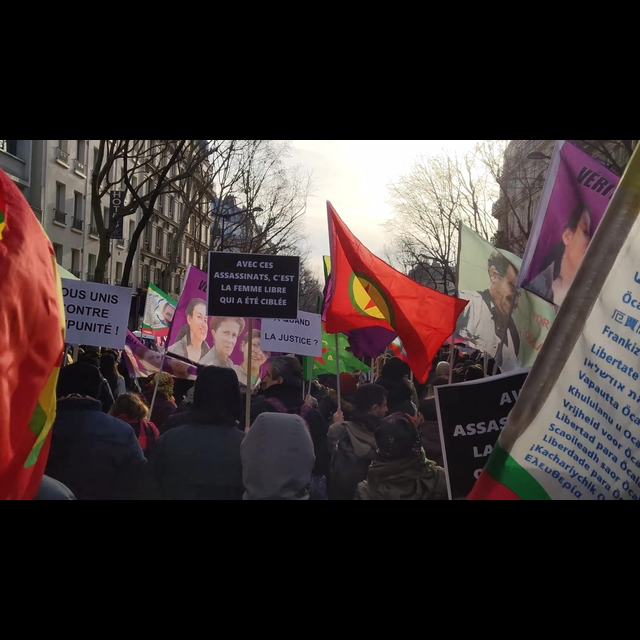PKK: (349, 267, 404, 327)
